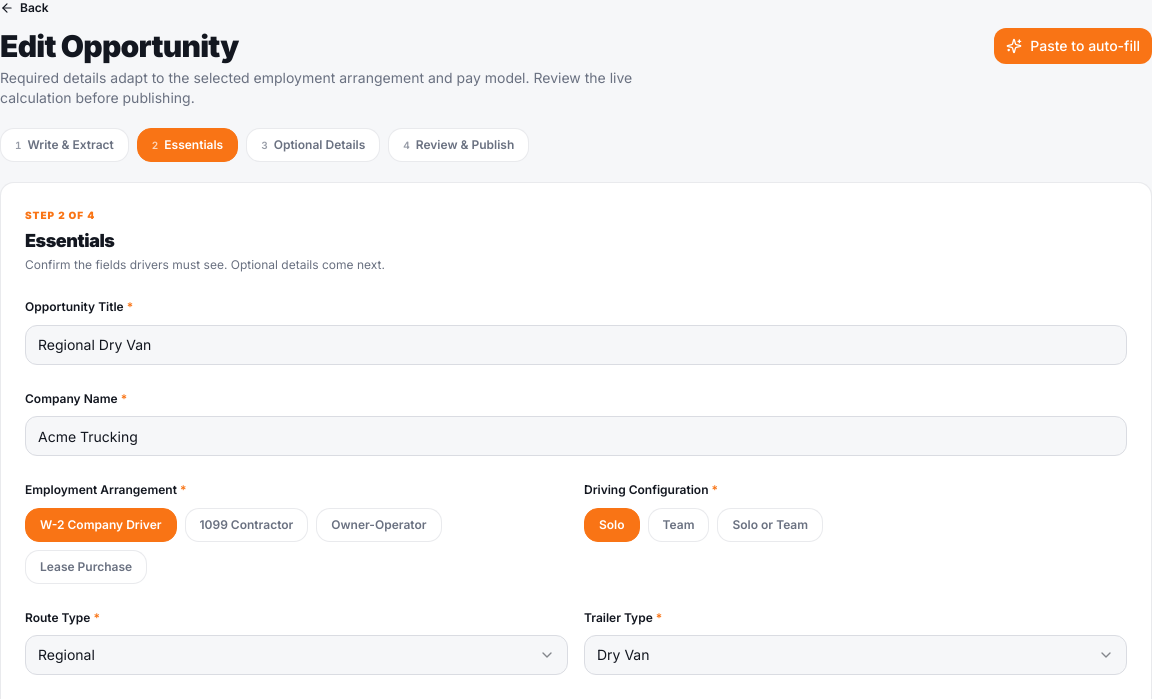
Test: Phase 1O-A — review composition (checklist + driver preview) › renders separate Publication Checklist and Driver Preview surfaces
Step 1. Click the tab "4Review & Publish" → (459, 145), box left=388, top=128, right=529, bottom=162
(page scrolled)
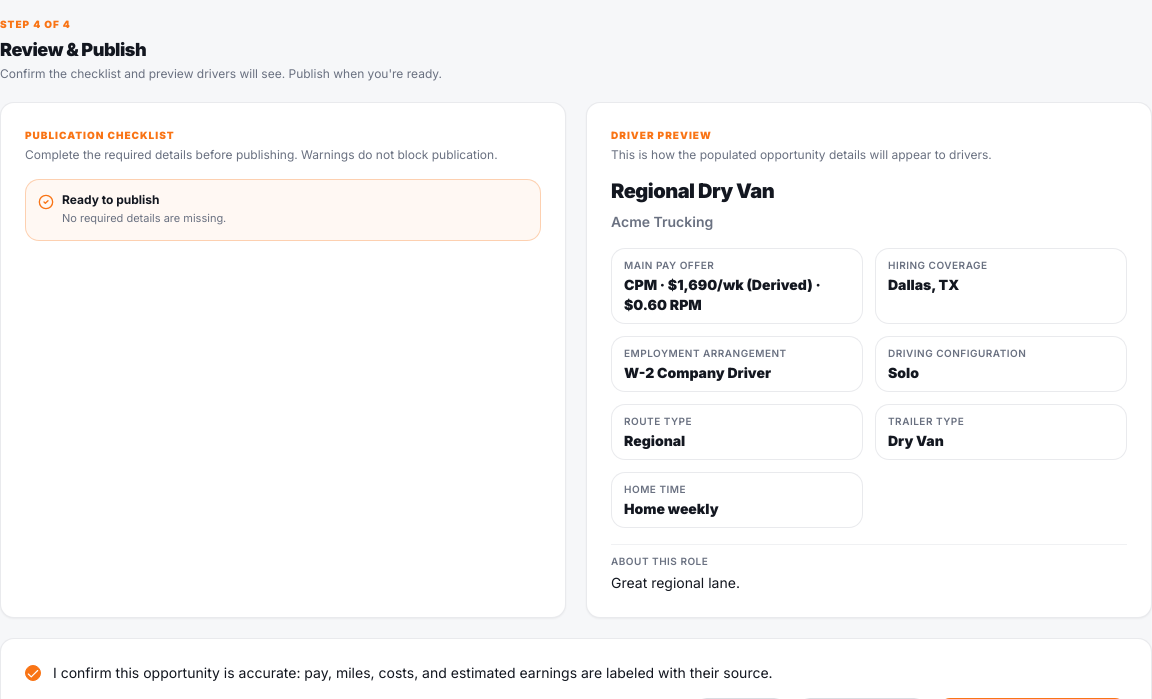
Check: the element with test id "publication-checklist" is shown, box left=0, top=102, right=566, bottom=618
Check: the element with test id "driver-preview" is shown, box left=586, top=102, right=1151, bottom=618
